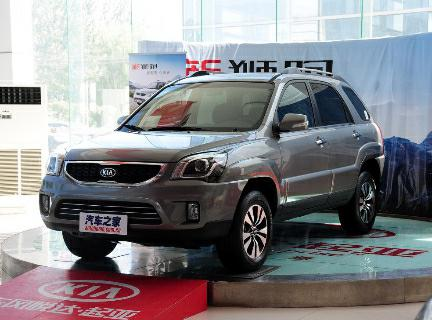起亚-狮跑: (36, 71, 391, 278)
